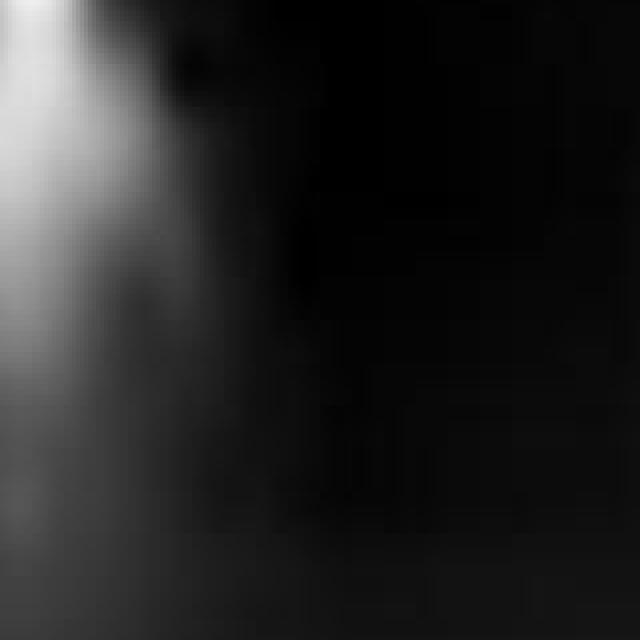person: (1, 1, 197, 545)
